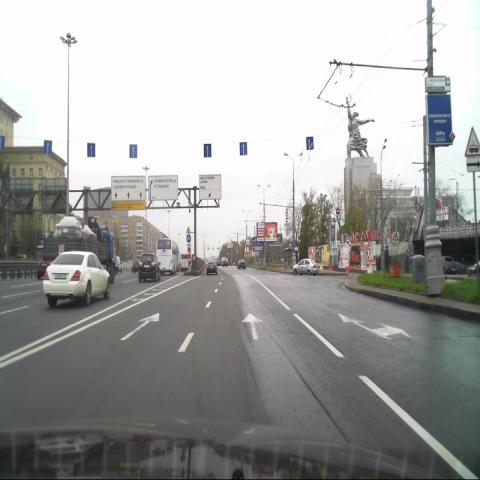1_5: (464, 125, 480, 157)
